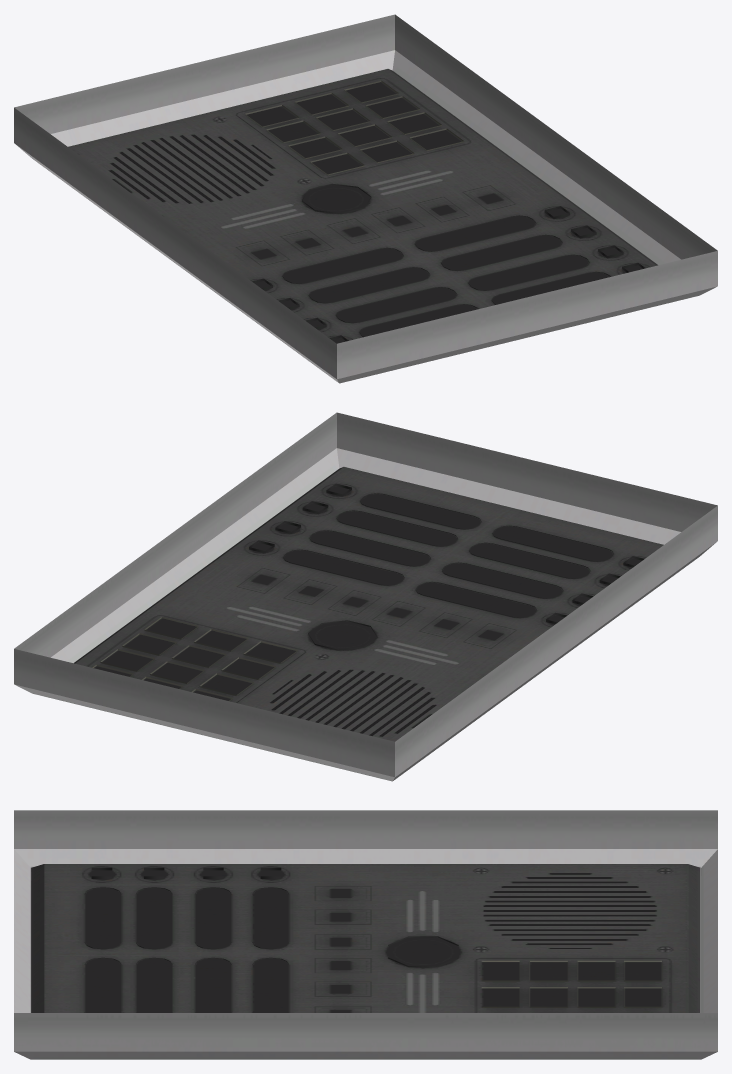
The model's file is nt_intercom_LOD1.obj.
3 renders of one model, top to bottom at view 1: azimuth 30°, elevation 25°; view 2: azimuth 150°, elevation 25°; view 3: azimuth 270°, elevation 25°, orthographic. The views are drawn at different scales.
Visible parts, largest first — view 1: mtl_nt_intercom; view 2: mtl_nt_intercom; view 3: mtl_nt_intercom.
Part boxes in pixels (<box>): mtl_nt_intercom: <box>14,14,717,383</box>; mtl_nt_intercom: <box>14,412,717,781</box>; mtl_nt_intercom: <box>14,810,717,1059</box>.
Bounding box in the file's own units: 31.7 × 4.09 × 46.51.
